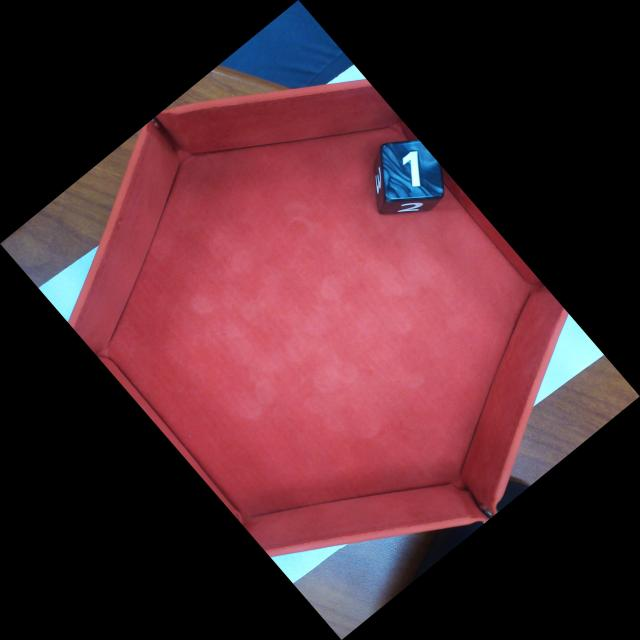dice: (380, 137, 441, 203)
